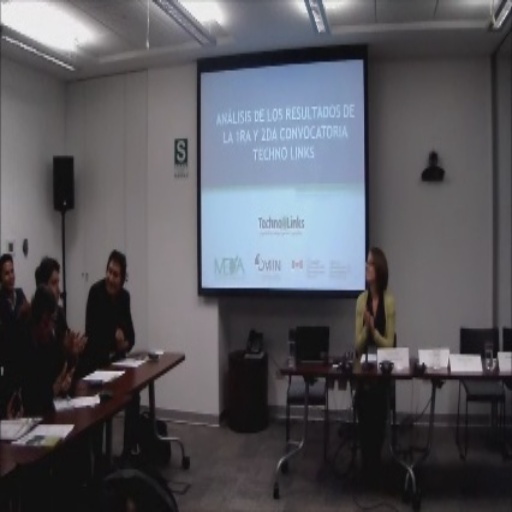hand: (50, 360, 76, 396), (4, 386, 22, 422), (62, 328, 85, 354), (114, 322, 126, 347), (361, 307, 370, 328), (367, 320, 378, 334)
